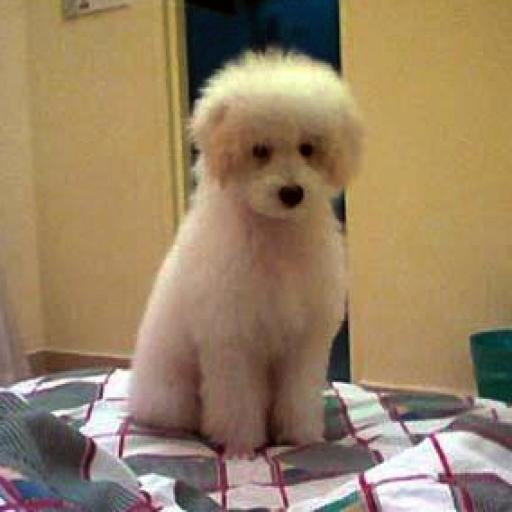dog_face: (191, 53, 350, 216)
